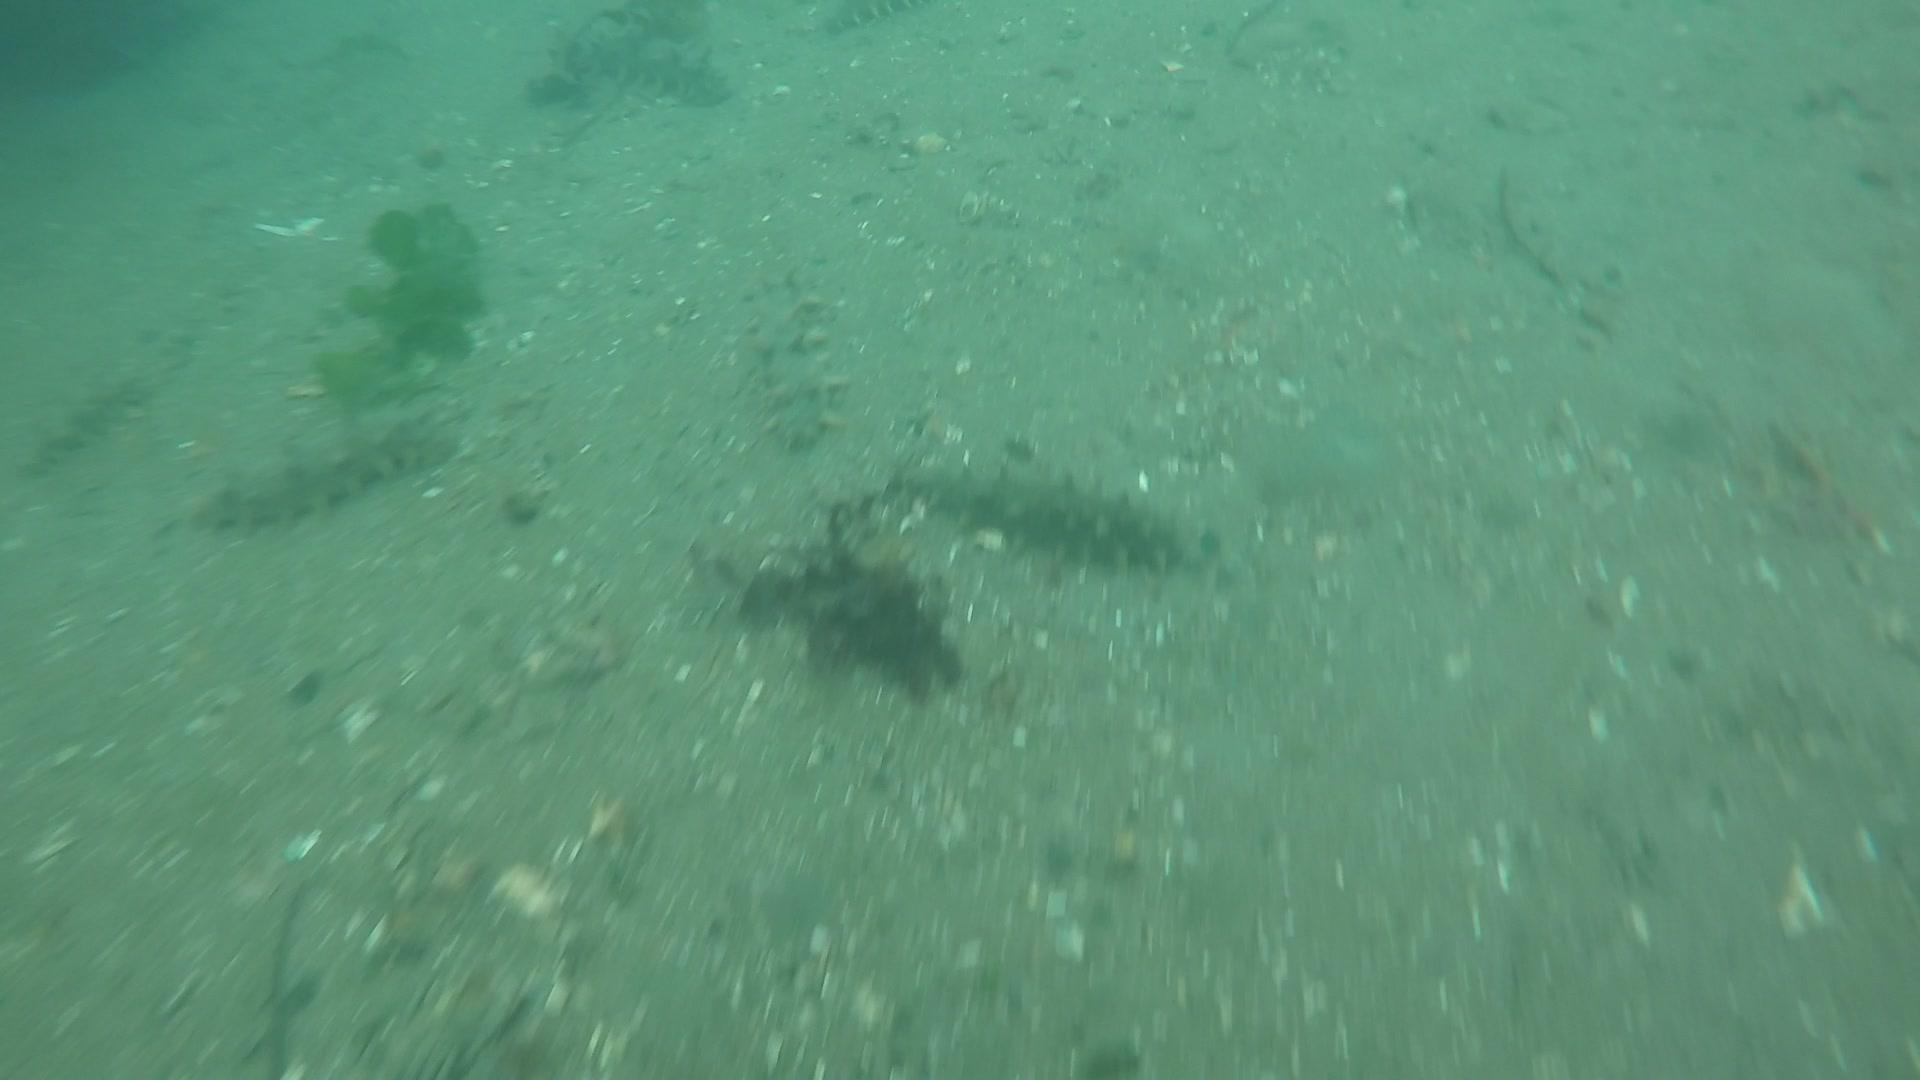holothurian: (887, 447, 1195, 582), (181, 404, 454, 543), (735, 266, 860, 455), (560, 20, 738, 112), (18, 371, 152, 489), (814, 1, 935, 40)
